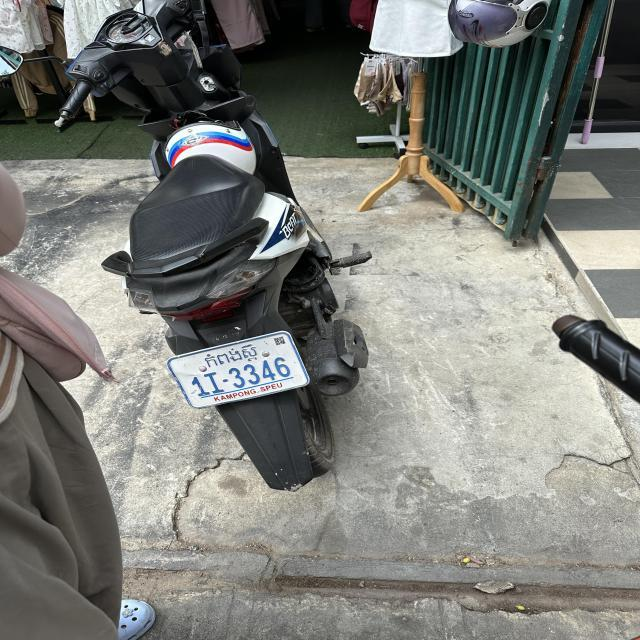Kampong_Speu: (204, 341, 260, 367)
